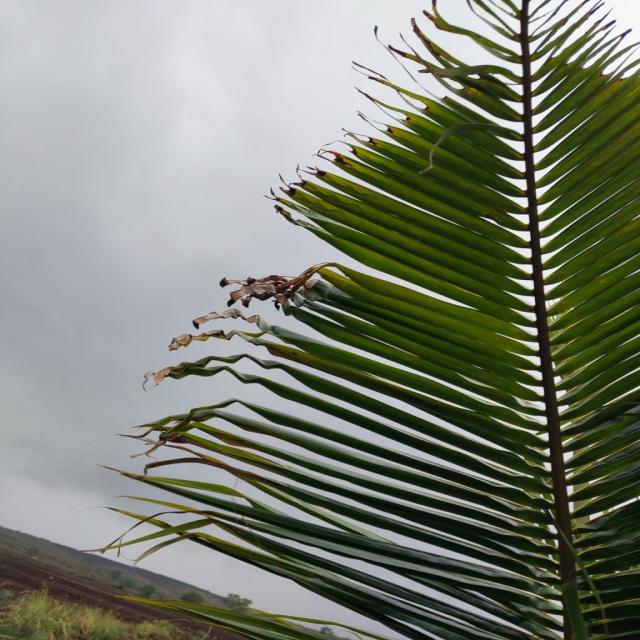leaf rot: (70, 5, 638, 598)
